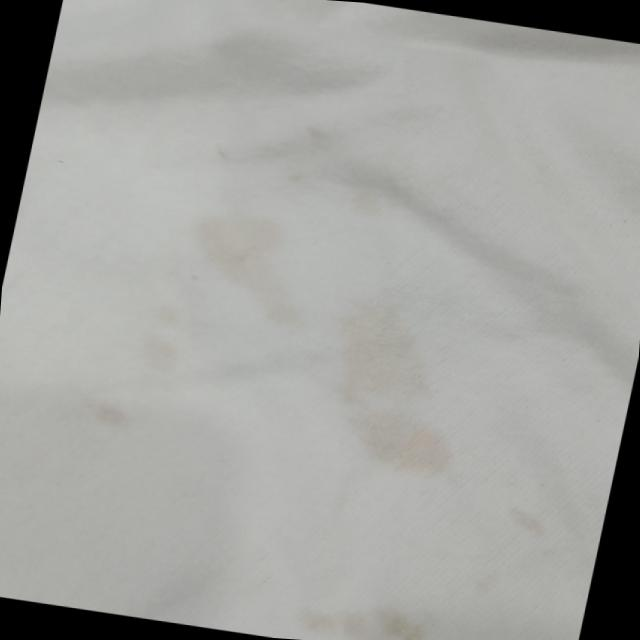stain: (309, 284, 498, 488), (178, 186, 343, 332), (289, 582, 449, 640), (130, 301, 202, 383), (489, 499, 567, 548), (88, 393, 136, 434), (0, 380, 10, 418)
